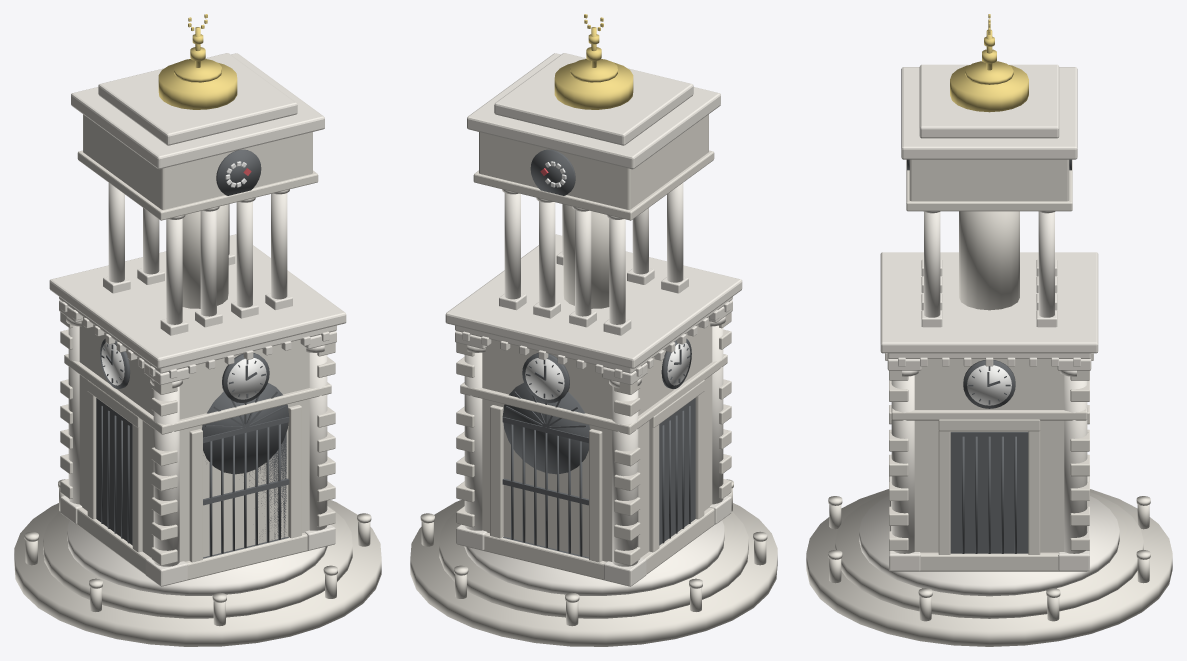
Rendered from Hamidiye_FatihSaatKulesi.fbx.
3 renders of one model, left to right at view 1: azimuth 30°, elevation 25°; view 2: azimuth 150°, elevation 25°; view 3: azimuth 270°, elevation 25°, orthographic.
Visible parts, largest first — view 1: Kule_MainBody, Kule_Cornice, Kule_Plinth1, Kule_UpperCap, Kule_UpperPediment, Kule_Door_-1, Kule_Plinth2, Kule_Plinth3, Kule_DoorArch_-1, Kule_BaseCol_-1.55_-1.55, Kule_Finial, Kule_BaseCol_1.55_-1.55 (+10 smaller); view 2: Kule_MainBody, Kule_Cornice, Kule_Plinth1, Kule_UpperCap, Kule_UpperPediment, Kule_Plinth2, Kule_Plinth3, Kule_Door_-1, Kule_DoorArch_1, Kule_BaseCol_-1.55_1.55, Kule_Finial, Kule_Door_1 (+12 smaller); view 3: Kule_MainBody, Kule_Cornice, Kule_Plinth1, Kule_UpperPediment, Kule_UpperCap, Kule_Door_1, Kule_Plinth2, Kule_Plinth3, Kule_Finial, Kule_BaseCol_1.55_-1.55, Kule_BaseCol_1.55_1.55, Kule_TopCol_1.1_-1.05 (+3 smaller).
Boxes of the visible parts, box(x1,y1,x2,y2) form: Kule_MainBody: box(60, 312, 335, 580); Kule_Cornice: box(49, 234, 346, 378); Kule_Plinth1: box(14, 479, 381, 646); Kule_UpperCap: box(71, 53, 324, 169); Kule_UpperPediment: box(77, 114, 318, 308); Kule_Door_-1: box(96, 398, 289, 558); Kule_Plinth2: box(43, 505, 352, 618); Kule_Plinth3: box(67, 520, 327, 595); Kule_DoorArch_-1: box(202, 383, 289, 474); Kule_BaseCol_-1.55_-1.55: box(144, 362, 189, 586); Kule_Finial: box(158, 14, 237, 109); Kule_BaseCol_1.55_-1.55: box(304, 331, 336, 550); Kule_MainBody: box(456, 312, 731, 580); Kule_Cornice: box(445, 234, 742, 378); Kule_Plinth1: box(410, 479, 777, 646); Kule_UpperCap: box(467, 53, 720, 169); Kule_UpperPediment: box(473, 114, 714, 308); Kule_Plinth2: box(439, 505, 748, 618); Kule_Plinth3: box(464, 520, 724, 595); Kule_Door_-1: box(659, 398, 695, 545); Kule_DoorArch_1: box(502, 383, 589, 474); Kule_BaseCol_-1.55_1.55: box(602, 362, 647, 586); Kule_Finial: box(554, 14, 633, 109); Kule_Door_1: box(502, 417, 588, 558); Kule_MainBody: box(889, 359, 1089, 571); Kule_Cornice: box(880, 252, 1098, 366); Kule_Plinth1: box(806, 489, 1172, 646); Kule_UpperPediment: box(906, 159, 1072, 310); Kule_UpperCap: box(901, 64, 1077, 159); Kule_Door_1: box(950, 432, 1028, 553); Kule_Plinth2: box(835, 492, 1143, 618); Kule_Plinth3: box(859, 496, 1119, 596); Kule_Finial: box(950, 14, 1028, 112); Kule_BaseCol_1.55_-1.55: box(887, 358, 921, 571); Kule_BaseCol_1.55_1.55: box(1057, 358, 1091, 571); Kule_TopCol_1.1_-1.05: box(921, 211, 942, 327).
Size of the model in its own units: 6.7 by 11.12 by 6.7.
